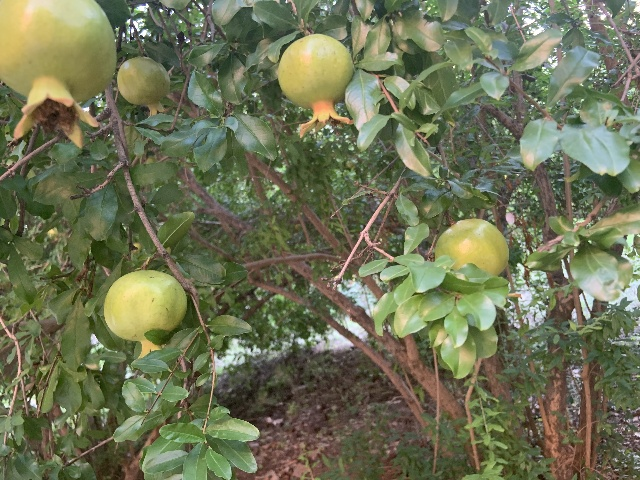mid-growth: (0, 0, 117, 149), (276, 33, 354, 137), (103, 269, 187, 358), (434, 218, 521, 298), (117, 55, 173, 116)
